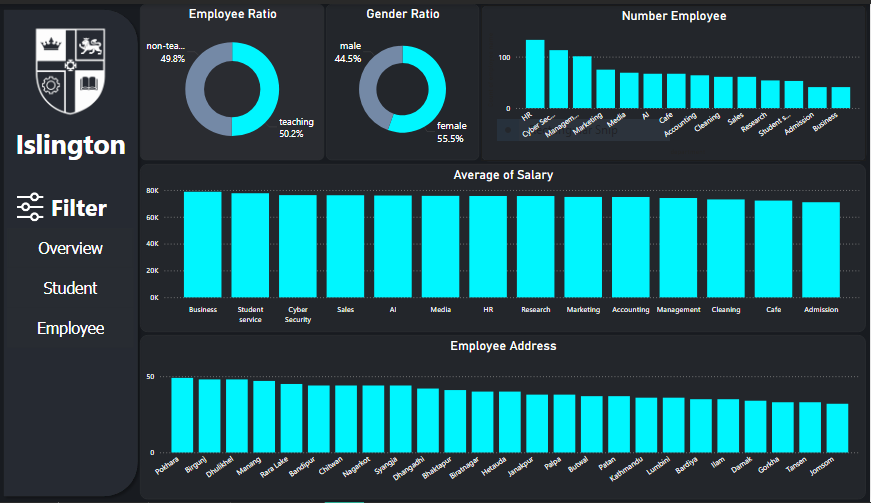

The dashboard page shown, as its layout file describes it:
{"tool":"powerbi","page":{"name":"Employee","canvas":[1400,800],"ordinal":2},"visuals":[{"type":"group","id":"g1","title":"Navi","box":[0,0,233.6,800],"z":0},{"type":"shape","title":"Navi bg","box":[0,0,233.6,800],"z":0,"group":"g1"},{"type":"image","box":[14.5,0,204,205.6],"z":0,"group":"g3"},{"type":"image","box":[0,291.6,102.8,67.3],"z":0,"group":"g4"},{"type":"actionButton","box":[14.5,359.8,204,64.3],"z":0,"group":"g5"},{"type":"shape","box":[24.1,363.1,17.7,59.4],"z":0,"group":"g2"},{"type":"donutChart","title":"Employee Ratio","fields":{"Category":["employee.work type"],"Y":["CountNonNull(employee.work type)"]},"box":[227.9,0,296.3,250.7],"z":1000},{"type":"textbox","box":[0,189.6,232.9,85.1],"z":1000,"group":"g3"},{"type":"textbox","box":[52.3,295.3,153.3,59.8],"z":1000,"group":"g4"},{"type":"group","id":"g2","title":"Group 1","box":[24.1,363.1,17.7,188],"z":1000,"group":"g1"},{"type":"actionButton","box":[14.5,424.1,204,64.3],"z":1000,"group":"g5"},{"type":"shape","box":[24.1,427.4,17.7,59.4],"z":1000,"group":"g2"},{"type":"group","id":"g3","title":"Logo","box":[0,0,232.9,274.7],"z":2000,"group":"g1"},{"type":"donutChart","title":"Gender Ratio","fields":{"Category":["employee.gender"],"Y":["CountNonNull(employee.gender)"]},"box":[527.4,0,245.8,250.7],"z":2000},{"type":"actionButton","box":[14.5,488.3,204,64.3],"z":2000,"group":"g5"},{"type":"shape","box":[24.1,491.6,17.7,59.4],"z":2000,"group":"g2"},{"type":"columnChart","title":"Number Employee","fields":{"Category":["employee.department"],"Y":["CountNonNull(employee.employee name)"]},"box":[776.5,1.6,618.6,250.7],"z":3000},{"type":"group","id":"g4","title":"filter heading","box":[0,291.6,205.6,67.3],"z":3000,"group":"g1"},{"type":"group","id":"g5","title":"Navi button","box":[14.5,359.8,204,192.8],"z":4000,"group":"g1"},{"type":"columnChart","title":"Employee Address","fields":{"Category":["employee.address"],"Y":["CountNonNull(employee.employee name)"]},"box":[227.9,532.3,1165.6,263.7],"z":4000},{"type":"columnChart","title":"Average of Salary","fields":{"Category":["employee.department"],"Y":["Avg(employee.Salary)"]},"box":[227.9,257.2,1165.6,270.2],"z":5000}]}

Visuals, with their boxes in screenshot pixels (x1, y1, x2, y2), scaled from the page's 1400x800 canvas onto the 871x503 screenshot:
"Navi" group: locate(0, 0, 145, 502)
"Navi bg" shape: locate(0, 0, 145, 502)
image: locate(9, 0, 136, 129)
image: locate(0, 183, 64, 226)
actionButton: locate(9, 226, 136, 267)
shape: locate(15, 228, 26, 266)
"Employee Ratio" donutChart: locate(142, 0, 326, 158)
textbox: locate(0, 119, 145, 173)
textbox: locate(33, 186, 128, 223)
"Group 1" group: locate(15, 228, 26, 347)
actionButton: locate(9, 267, 136, 307)
shape: locate(15, 269, 26, 306)
"Logo" group: locate(0, 0, 145, 173)
"Gender Ratio" donutChart: locate(328, 0, 481, 158)
actionButton: locate(9, 307, 136, 347)
shape: locate(15, 309, 26, 346)
"Number Employee" columnChart: locate(483, 1, 868, 159)
"filter heading" group: locate(0, 183, 128, 226)
"Navi button" group: locate(9, 226, 136, 347)
"Employee Address" columnChart: locate(142, 335, 867, 500)
"Average of Salary" columnChart: locate(142, 162, 867, 332)
